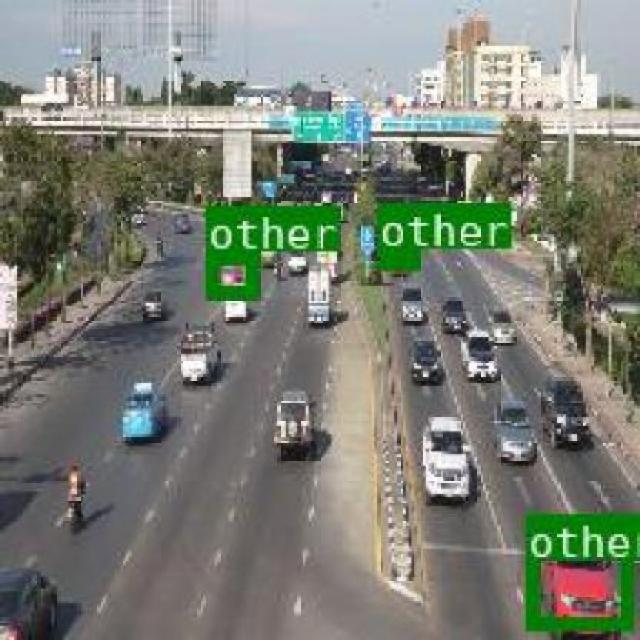other: (524, 513, 632, 627), (202, 250, 255, 296), (376, 246, 416, 266)
